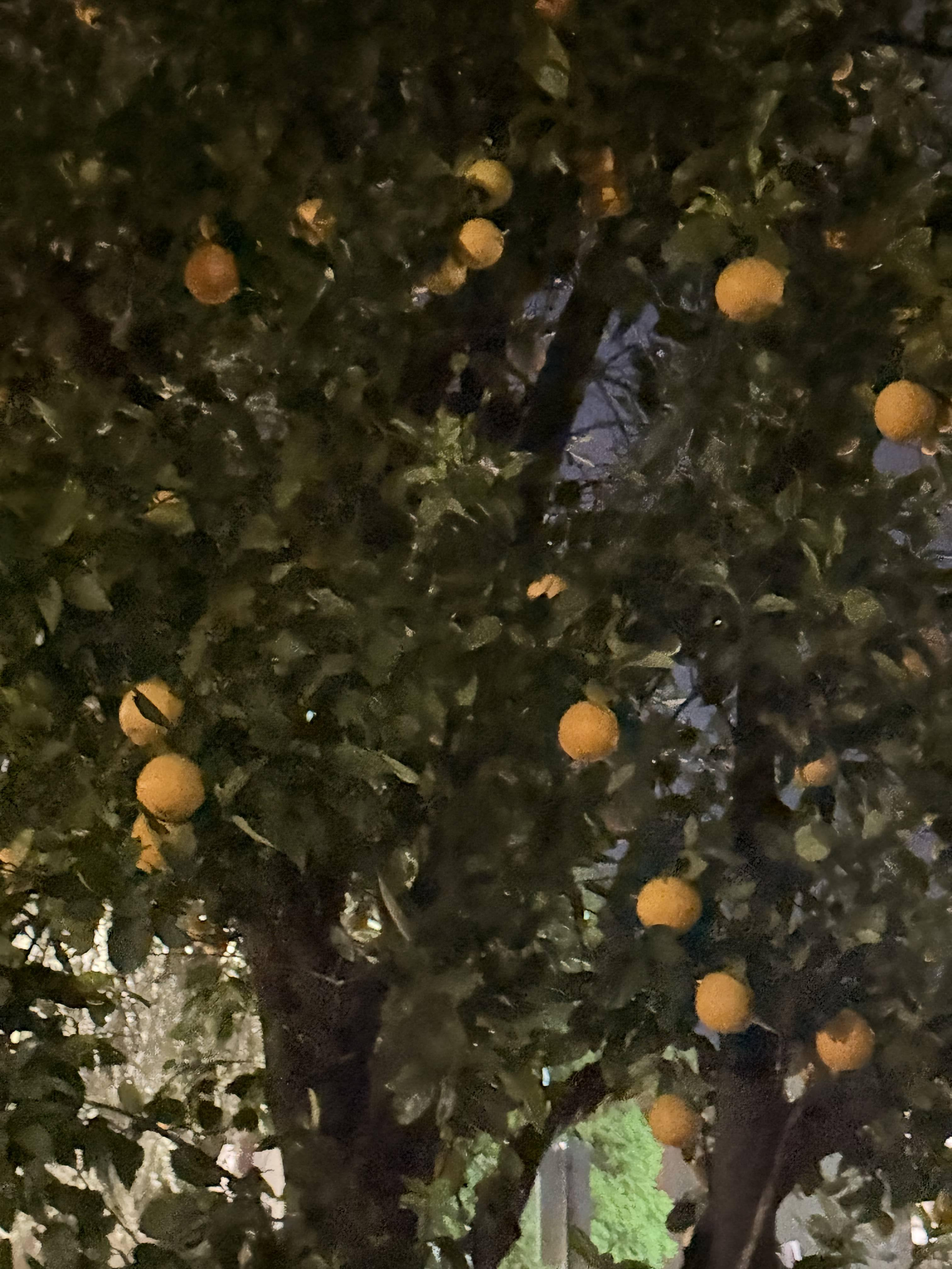orange: (136, 753, 205, 823), (119, 677, 184, 747), (715, 257, 784, 322), (874, 379, 938, 443), (131, 813, 195, 873), (558, 700, 619, 761), (816, 1009, 874, 1072), (636, 877, 701, 933), (695, 972, 753, 1034), (184, 241, 240, 305), (647, 1094, 700, 1149), (824, 217, 890, 259), (454, 218, 504, 270), (463, 159, 513, 210), (579, 172, 631, 219), (290, 198, 336, 245), (905, 627, 949, 672), (424, 255, 467, 295), (795, 750, 838, 787), (574, 147, 615, 184), (527, 573, 566, 599), (535, 0, 577, 22), (555, 7, 555, 7)
